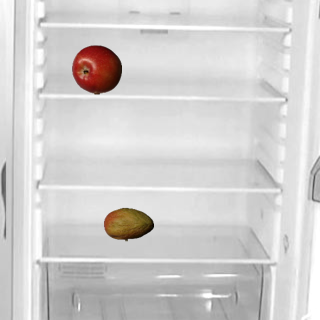Apple Braeburn: (71, 44, 121, 94)
Papaya: (103, 199, 153, 249)
